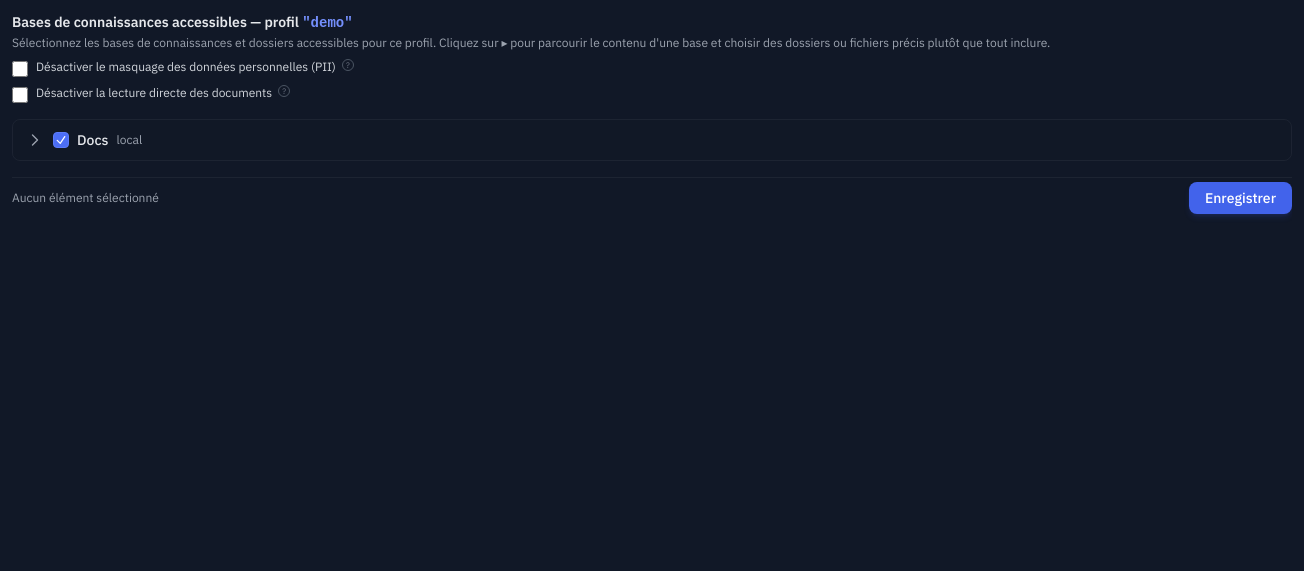
Scenario: RagAccessSelector — French wording › uses "profil" / "bases de connaissances" and spaces the selection summary
Expected: the heading "Bases de connaissances accessibles — profil \"demo\"" is shown, [12,13,353,31]
// The source list loads asynchronously (shared with the Sources page): wait for it.
What coordinates should you click on to do the following:
click the button named "Développer la source"
I would click on:
 (35, 140)
Its box is [25,130,45,150].
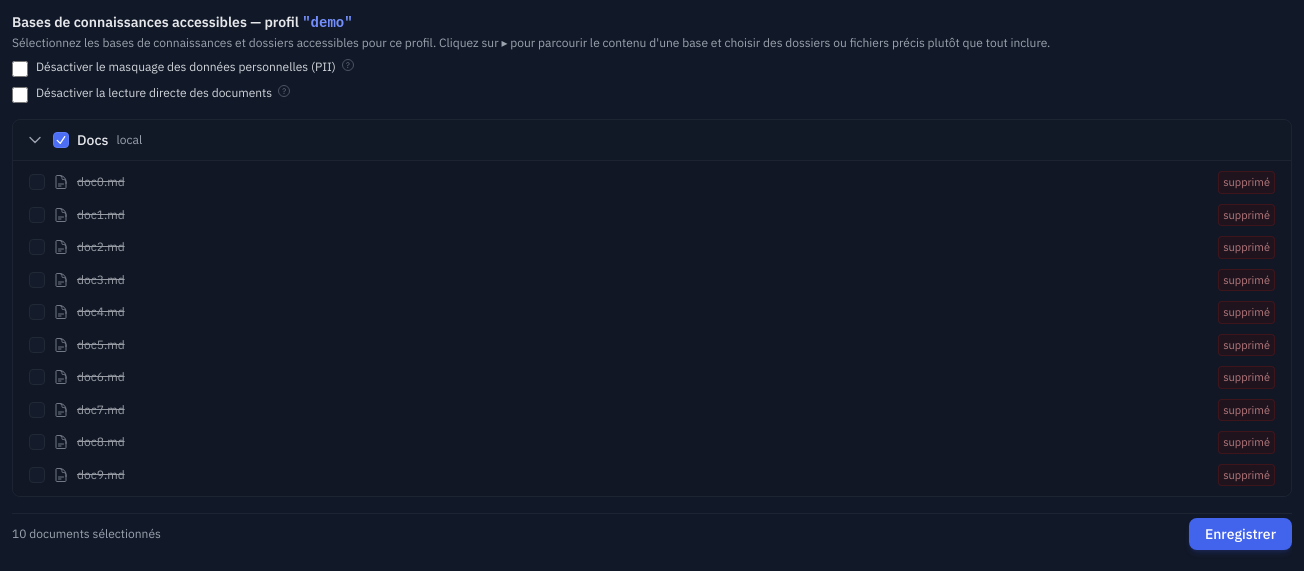
Expected: the text "doc0.md" is shown, [77,174,125,189]
